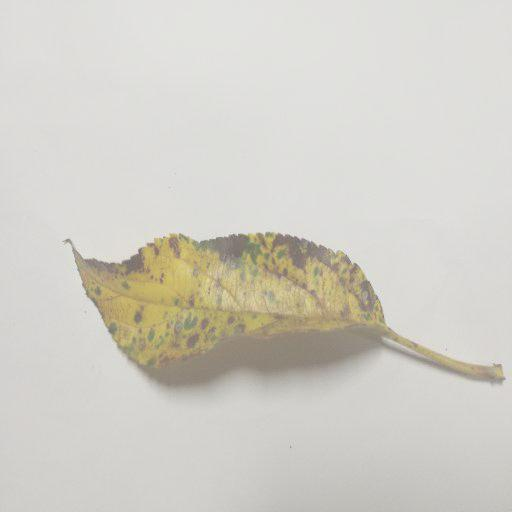Brown_Spot: (81, 245, 362, 341)
